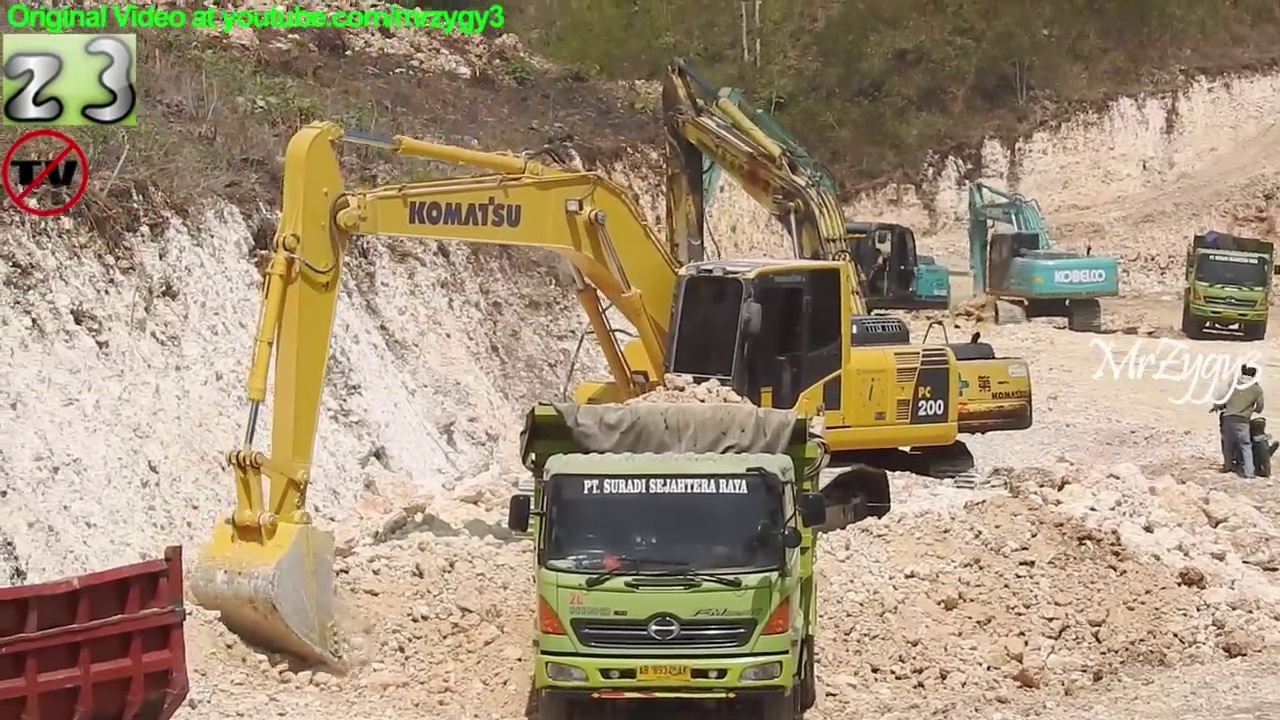excavator: (188, 113, 969, 682), (623, 51, 1044, 499), (653, 83, 960, 340), (951, 168, 1126, 334)
truck: (502, 396, 837, 720), (1, 536, 198, 720), (1179, 227, 1280, 348)
